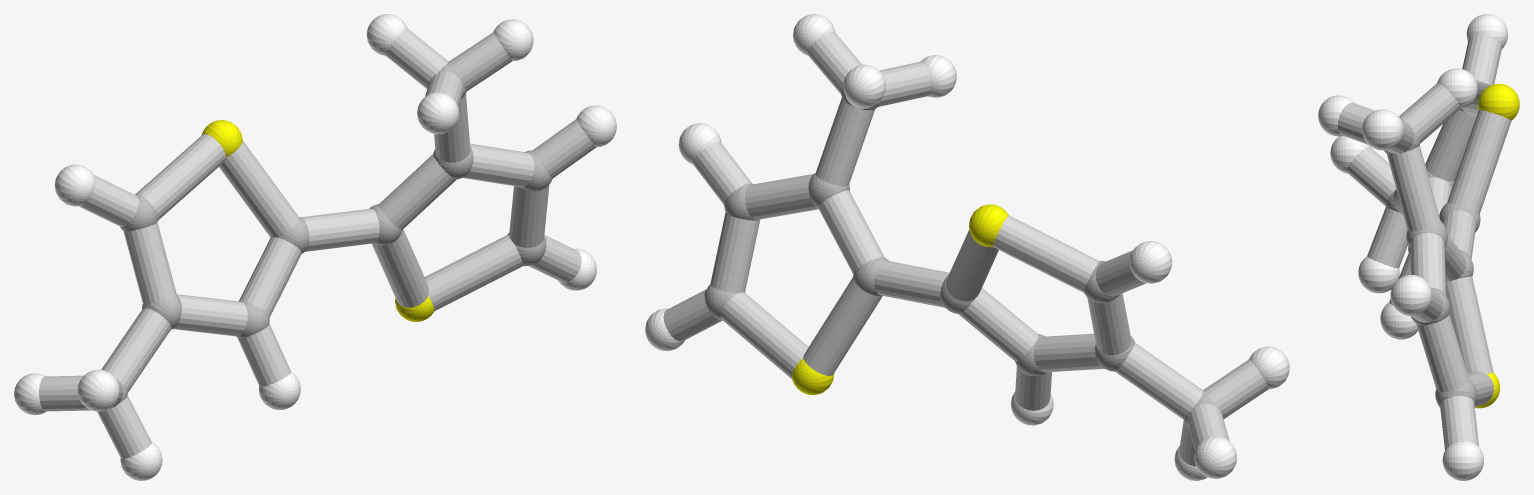
File: Methylthiophene_Phi_5_Theta_40_Methylthiophene.glb
The picture shows the model from 3 angles, left to right: view 1: azimuth 30°, elevation 25°; view 2: azimuth 150°, elevation 25°; view 3: azimuth 270°, elevation 25°; orthographic projection. The views are drawn at different scales.
Parts seen in each view (by area): view 1: grp7965, grp3621, grp1, grp7241; view 2: grp7965, grp3621, grp1, grp7241; view 3: grp7965, grp3621, grp1, grp7241.
Part boxes in pixels (left/top/right/bottom): grp7965: left=39, top=28, right=596, bottom=458; grp3621: left=14, top=14, right=616, bottom=480; grp1: left=118, top=63, right=552, bottom=403; grp7241: left=201, top=120, right=434, bottom=321; grp7965: left=663, top=31, right=1268, bottom=466; grp3621: left=645, top=14, right=1289, bottom=480; grp1: left=704, top=88, right=1215, bottom=427; grp7241: left=792, top=204, right=1008, bottom=394; grp7965: left=1337, top=34, right=1511, bottom=450; grp3621: left=1318, top=14, right=1507, bottom=480; grp1: left=1384, top=80, right=1485, bottom=407; grp7241: left=1474, top=84, right=1519, bottom=408.
Bounding box in the file's own units: 9.47 × 5.73 × 2.91.
